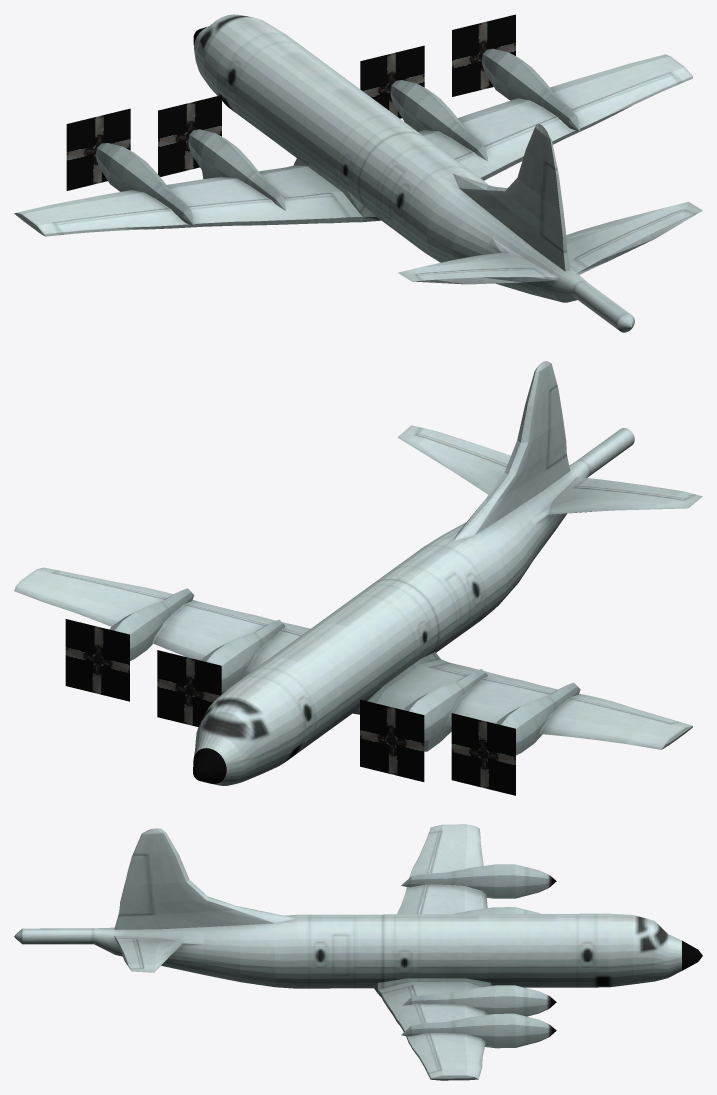
File: pr_orion.DAE
3 renders of one model, top to bottom at view 1: azimuth 30°, elevation 25°; view 2: azimuth 150°, elevation 25°; view 3: azimuth 270°, elevation 25°, orthographic. The views are drawn at different scales.
Parts seen in each view (by area): view 1: hull, props; view 2: hull, props; view 3: hull.
Part boxes in pixels (left/top/right/bottom): hull: left=14, top=14, right=702, bottom=332; props: left=66, top=14, right=515, bottom=190; hull: left=14, top=361, right=702, bottom=785; props: left=65, top=619, right=515, bottom=795; hull: left=14, top=824, right=702, bottom=1080.
Bounding box in the file's own units: 30.37 × 9.09 × 35.2.
2 materials, 2 textured.
